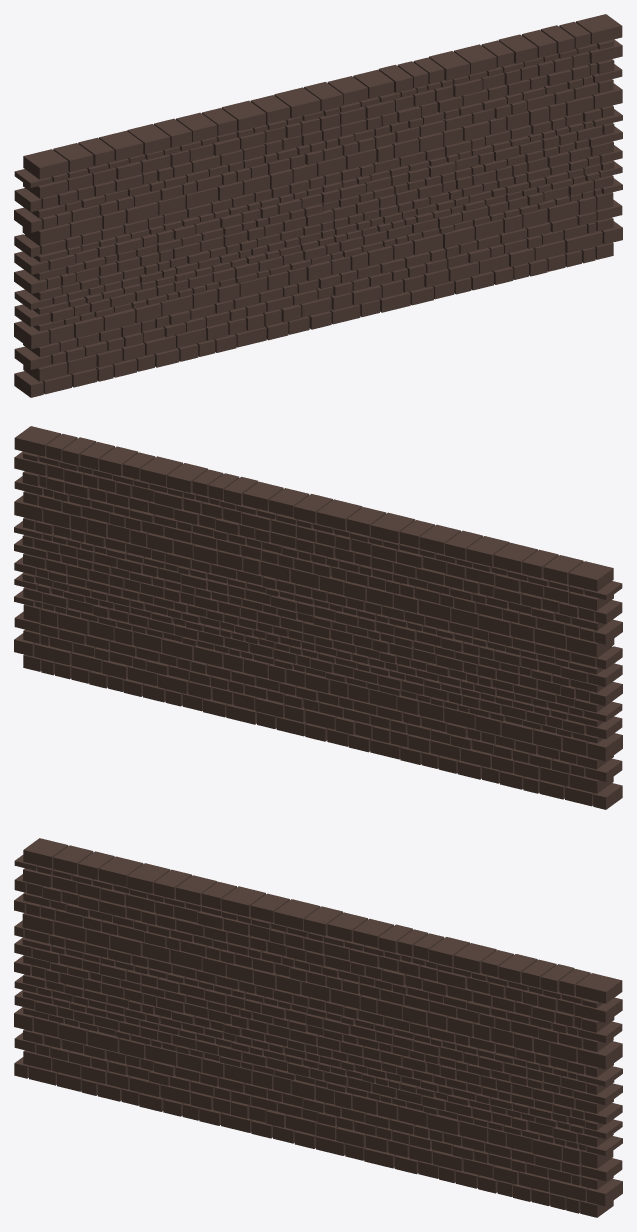
The model's file is wall2.fbx.
3 views of the same model, one above another, from view 1: azimuth 30°, elevation 25°; view 2: azimuth 150°, elevation 25°; view 3: azimuth 330°, elevation 25° (orthographic).
Visible parts, largest first — view 1: Wall.006; view 2: Wall.006; view 3: Wall.006.
Boxes of the visible parts, x1=… form: Wall.006: x1=14, y1=14, x2=622, y2=397; Wall.006: x1=14, y1=426, x2=622, y2=809; Wall.006: x1=14, y1=838, x2=622, y2=1217.
Size of the model in its own units: 4051 by 1490 by 210.
